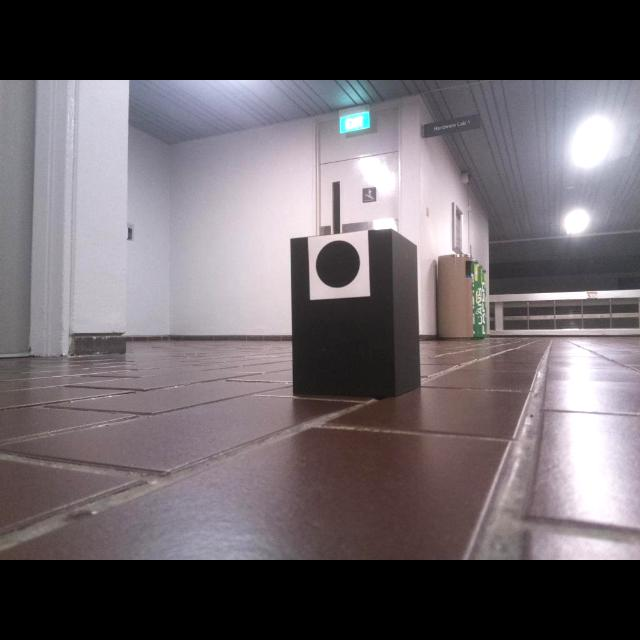CIRCLE: (315, 239, 362, 290)
